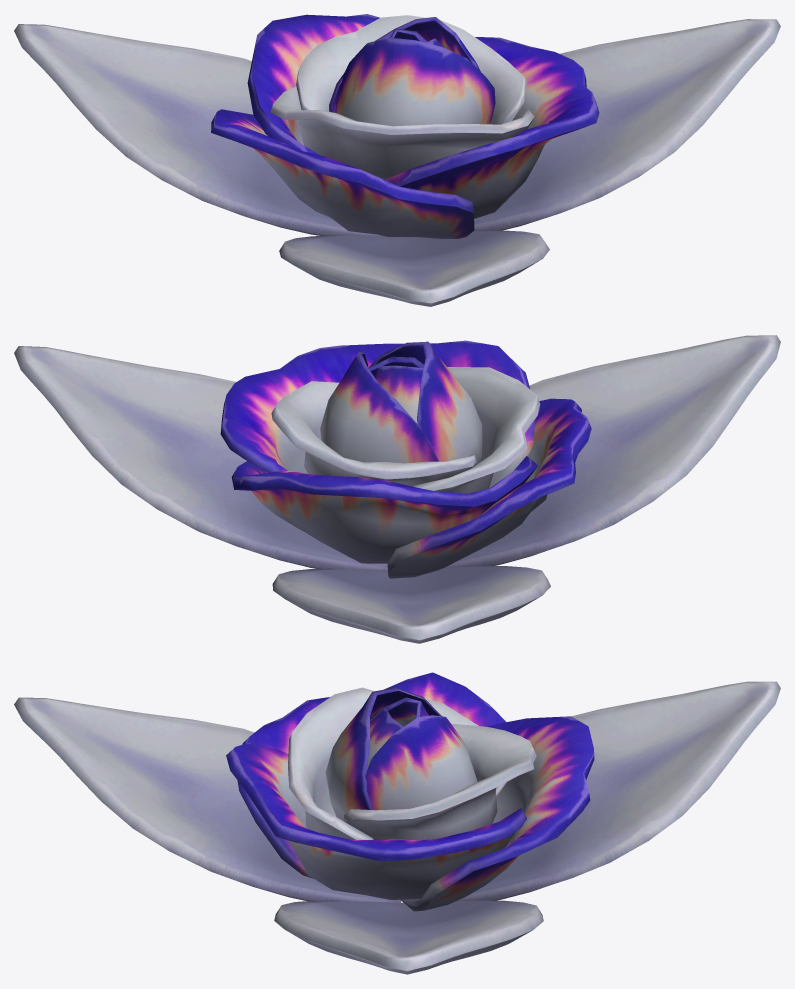
The model's file is arc-rose.glb.
3 renders of one model, top to bottom at view 1: azimuth 30°, elevation 25°; view 2: azimuth 150°, elevation 25°; view 3: azimuth 270°, elevation 25°, orthographic. The views are drawn at different scales.
Visible parts, largest first — view 1: Nox_S0_E_Flower_3P_SM.mo; view 2: Nox_S0_E_Flower_3P_SM.mo; view 3: Nox_S0_E_Flower_3P_SM.mo.
Boxes of the visible parts, x1=… form: Nox_S0_E_Flower_3P_SM.mo: x1=14, y1=14, x2=780, y2=306; Nox_S0_E_Flower_3P_SM.mo: x1=14, y1=335, x2=780, y2=643; Nox_S0_E_Flower_3P_SM.mo: x1=14, y1=672, x2=780, y2=974.
Bounding box in the file's own units: 0.161 × 0.0571 × 0.1819.
1 material, 1 textured.
